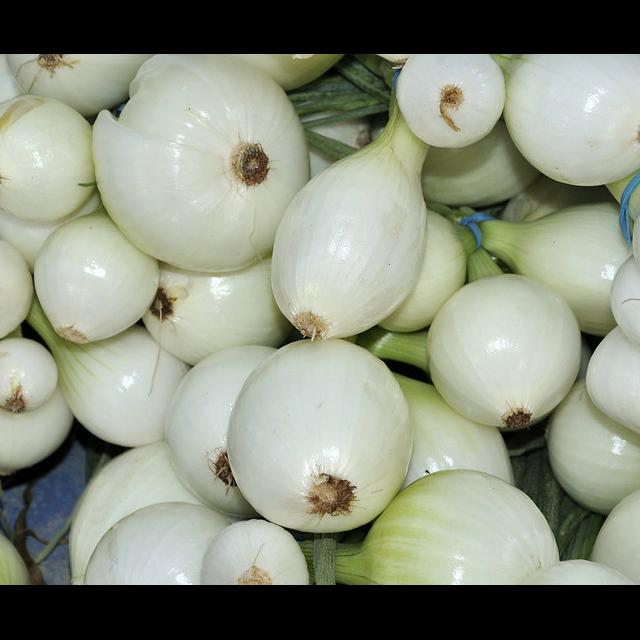green_onion: (272, 104, 430, 340), (45, 326, 188, 448)
